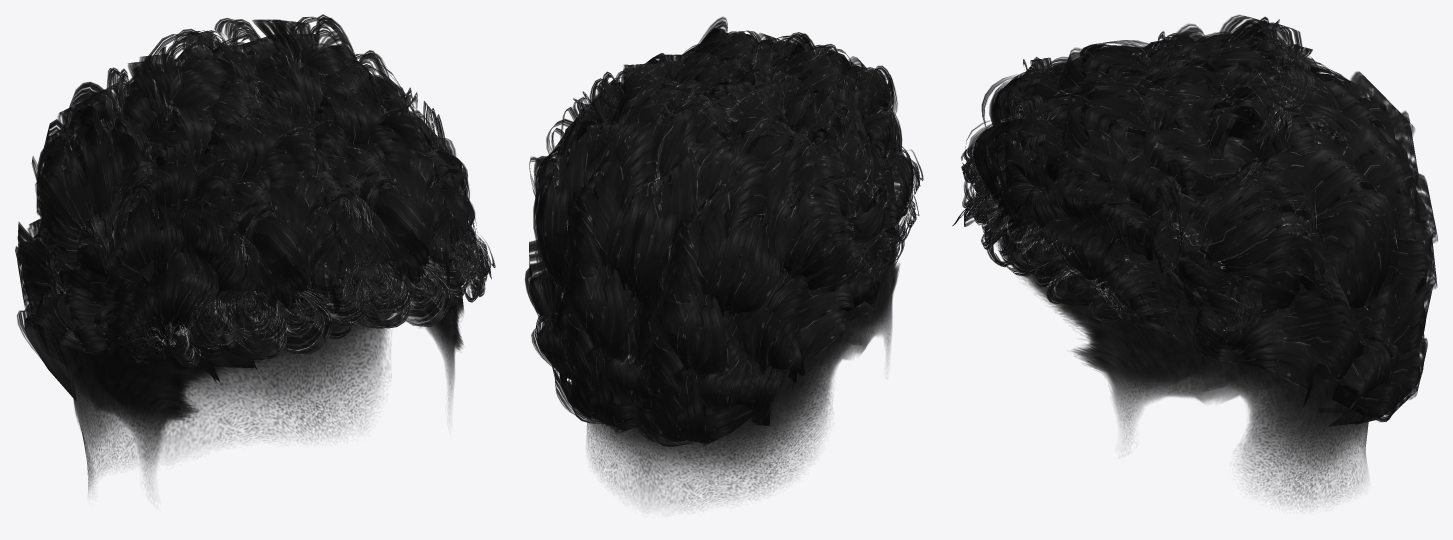
File: oval_curly_01 FrenchCrop.glb
3 renders of one model, left to right at view 1: azimuth 30°, elevation 25°; view 2: azimuth 150°, elevation 25°; view 3: azimuth 270°, elevation 25°, orthographic. The views are drawn at different scales.
Visible parts, largest first — view 1: CURLY_UNDERCUT base.003, Scalp.019; view 2: CURLY_UNDERCUT base.003, Scalp.019; view 3: CURLY_UNDERCUT base.003, Scalp.019.
Boxes of the visible parts, x1,y1,x2,y2 form: CURLY_UNDERCUT base.003: (15, 14, 495, 397); Scalp.019: (62, 115, 463, 492); CURLY_UNDERCUT base.003: (525, 16, 923, 446); Scalp.019: (571, 93, 899, 508); CURLY_UNDERCUT base.003: (952, 15, 1437, 424); Scalp.019: (985, 97, 1372, 508).
Bounding box in the file's own units: 0.2205 × 0.2699 × 0.2652.
2 materials, 2 textured.
